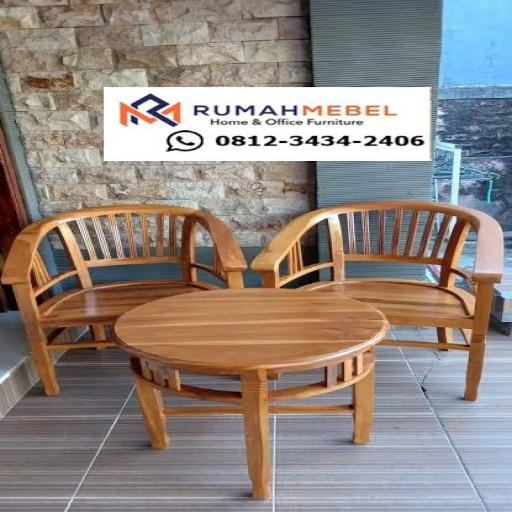kursi: (259, 199, 512, 405), (0, 198, 256, 398)
meja: (113, 284, 401, 502)
